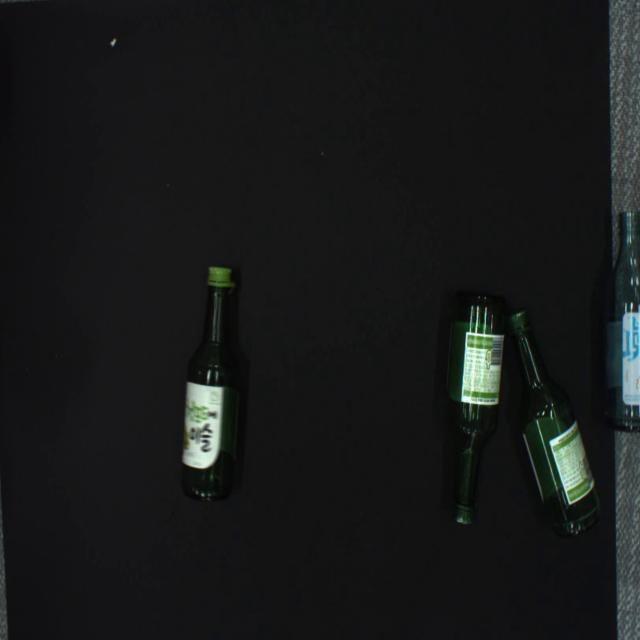soju-bottle: (507, 309, 602, 539), (444, 291, 507, 525), (179, 265, 241, 502), (600, 211, 640, 432)
